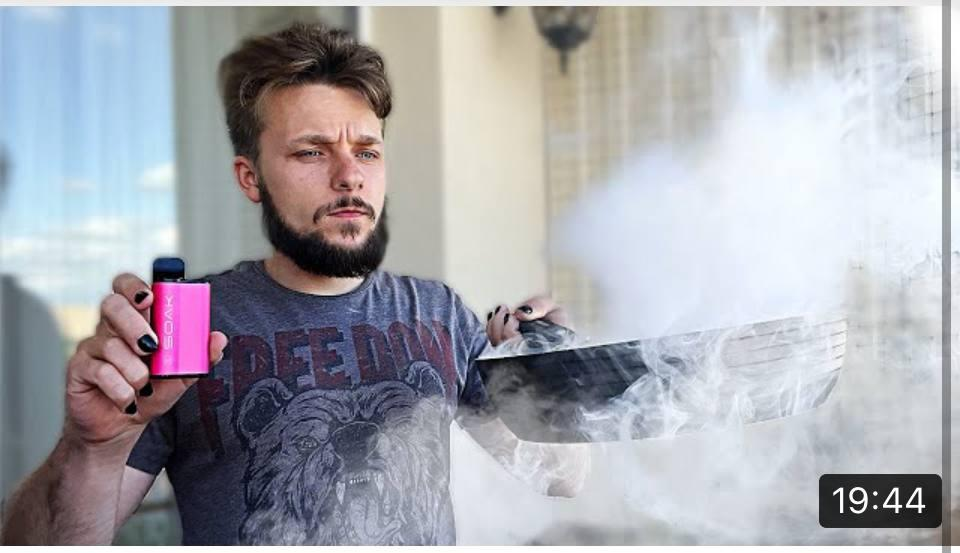Vape: (149, 257, 210, 378)
